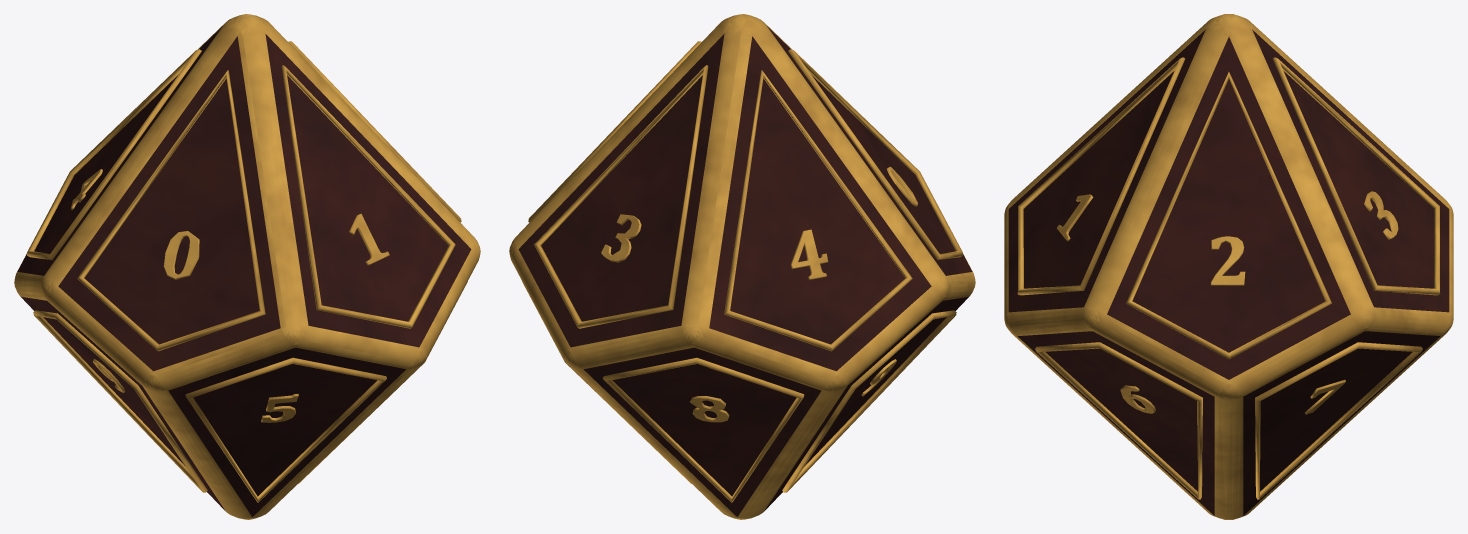
The model's file is D10_Ones.gltf.
3 views of the same model, side by side, from view 1: azimuth 30°, elevation 25°; view 2: azimuth 150°, elevation 25°; view 3: azimuth 270°, elevation 25° (orthographic).
Parts seen in each view (by area): view 1: D10_Ones; view 2: D10_Ones; view 3: D10_Ones.
Boxes of the visible parts, x1,y1,x2,y2 form: D10_Ones: (14,14,480,519); D10_Ones: (509,14,975,519); D10_Ones: (1004,14,1453,519).
Bounding box in the file's own units: 0.842 × 0.9912 × 0.8051.
Materials: 2 (2 with a texture image).
